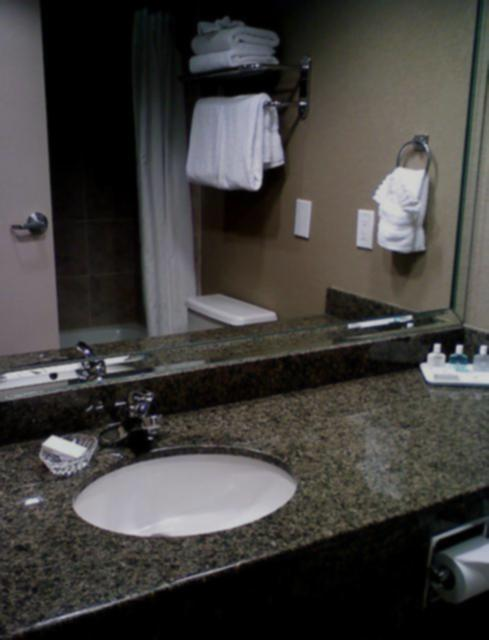Lavamanos: (63, 390, 299, 548)
